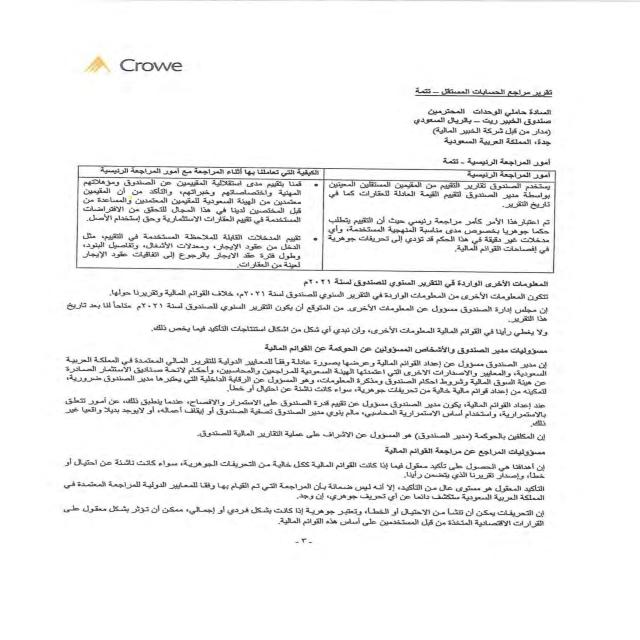auditor_report: (406, 80, 560, 104)
